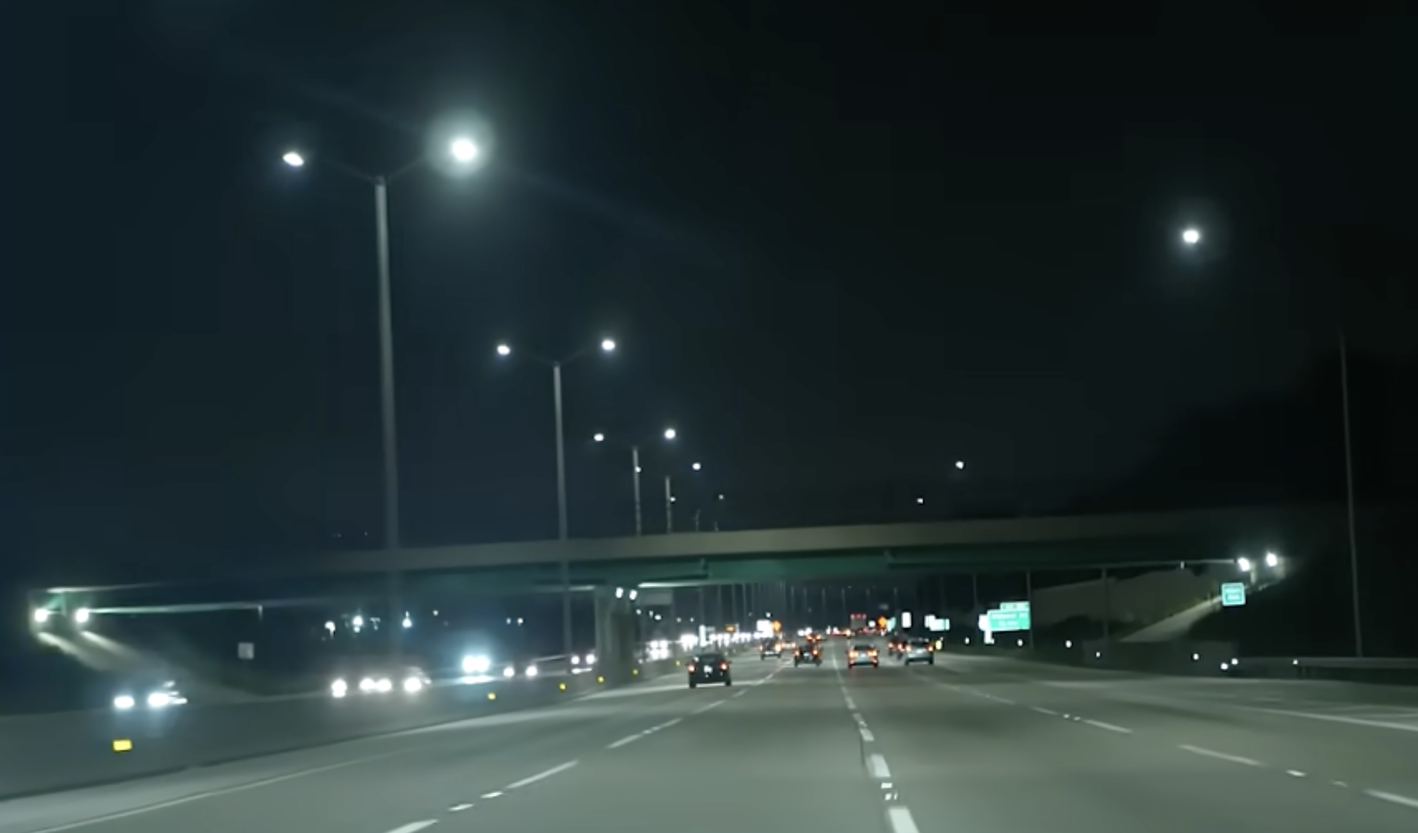LED: (413, 113, 492, 175), (1165, 204, 1219, 259), (266, 138, 328, 179), (590, 324, 628, 361), (489, 334, 522, 365)
